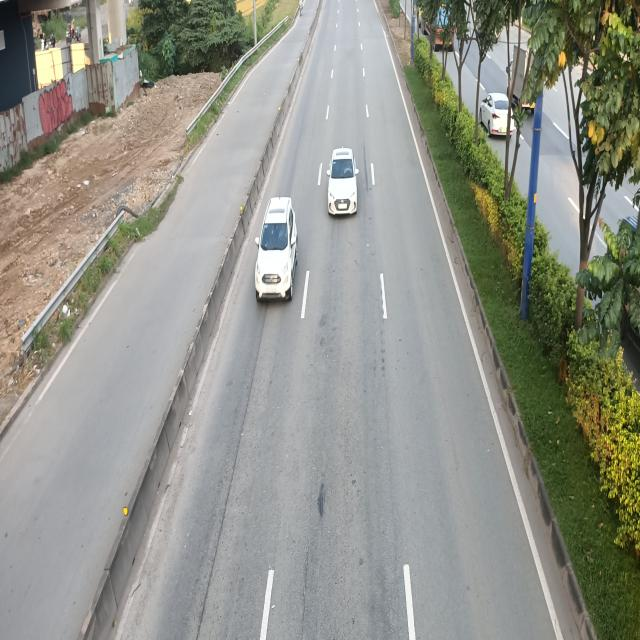car: (256, 195, 299, 300), (328, 149, 360, 217)
